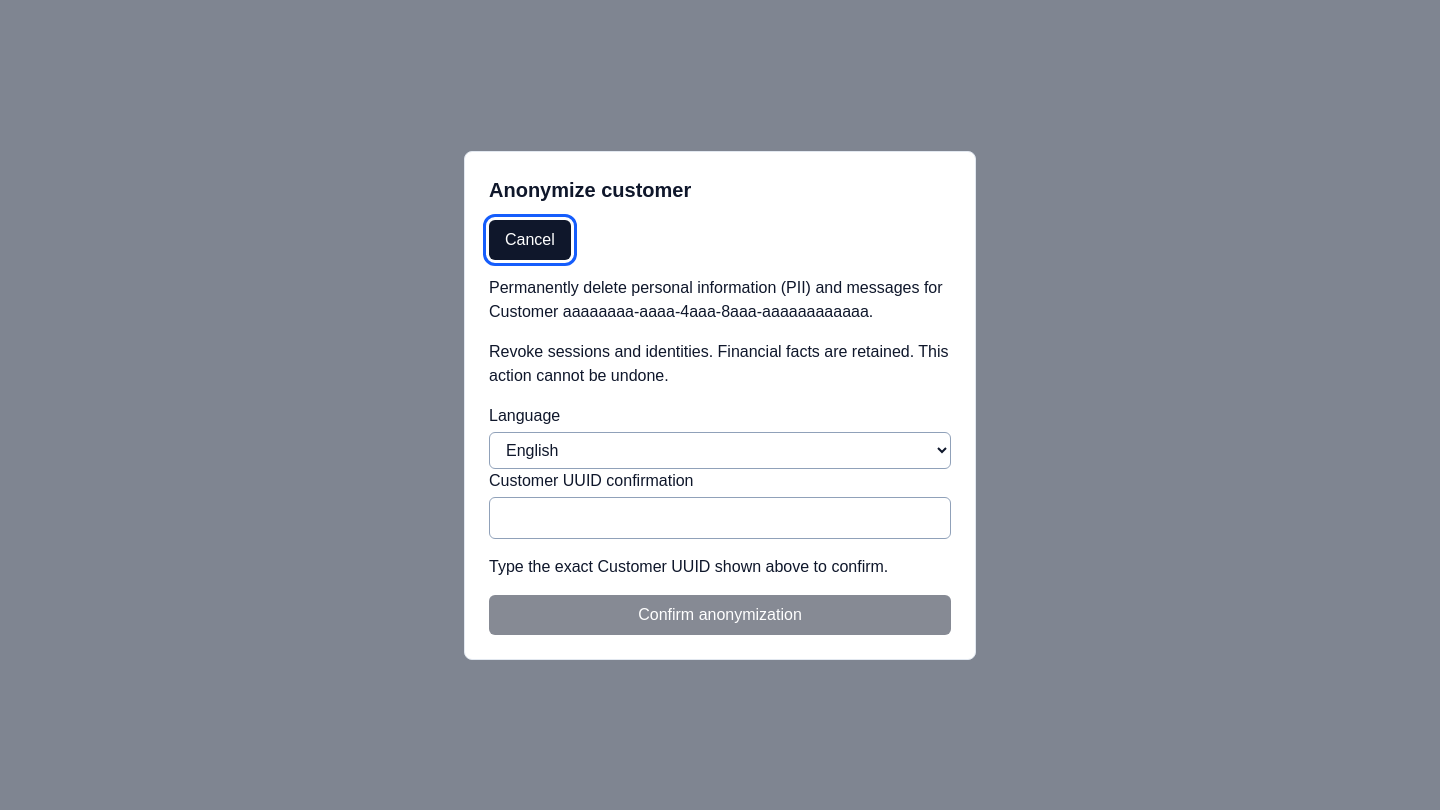
Test case: links a guarded customer to subscription management without automatically cancelling
In the field labelled "Customer UUID confirmation": {"x": 720, "y": 518} [489,496,951,538], type "aaaaaaaa-aaaa-4aaa-8aaa-aaaaaaaaaaaa"
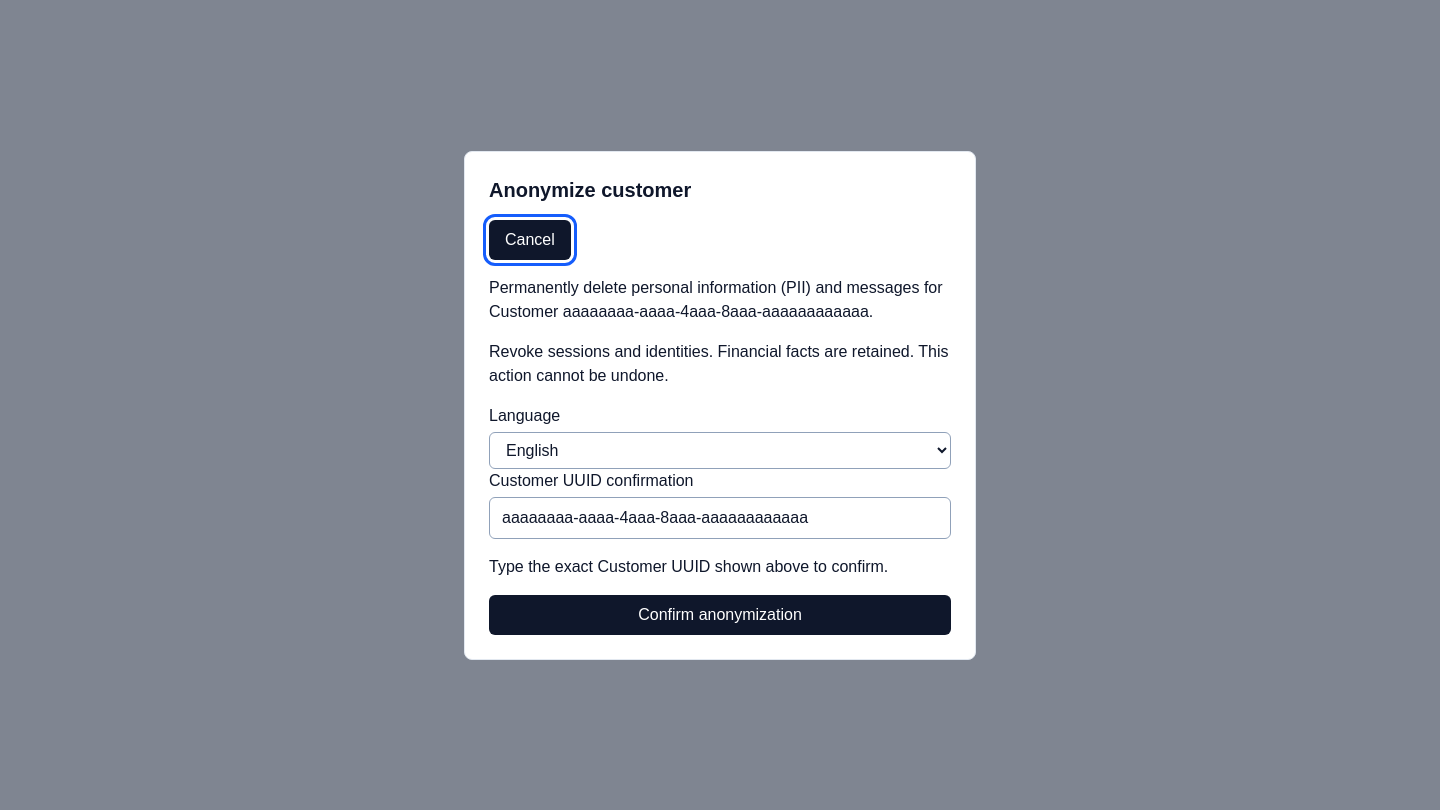
Click the button "Confirm anonymization": {"x": 720, "y": 614} [489,594,951,634]
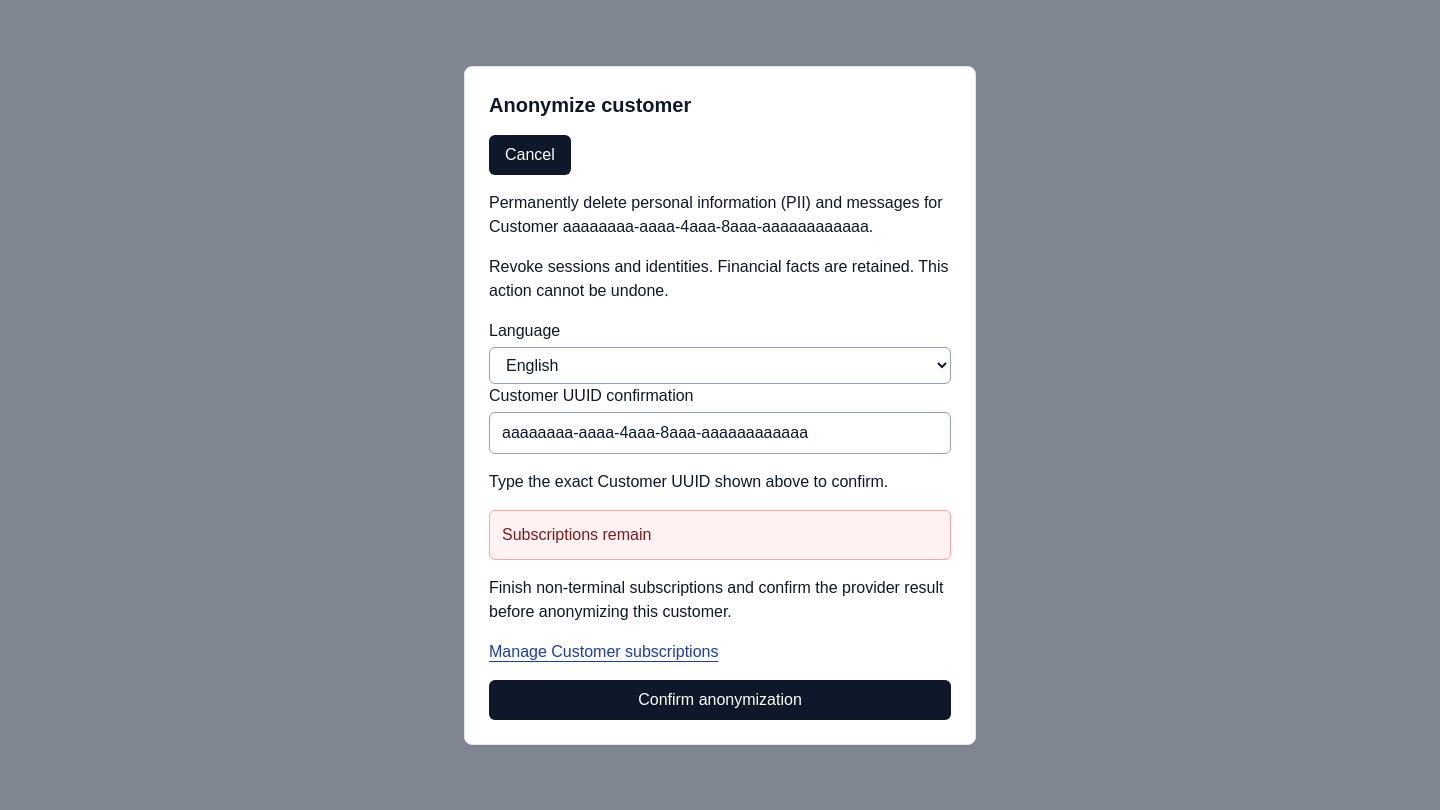
Expected: the text "Finish non-terminal subscriptions and confirm the provider result before anonymizing this customer." is shown, [489,578,943,620]
